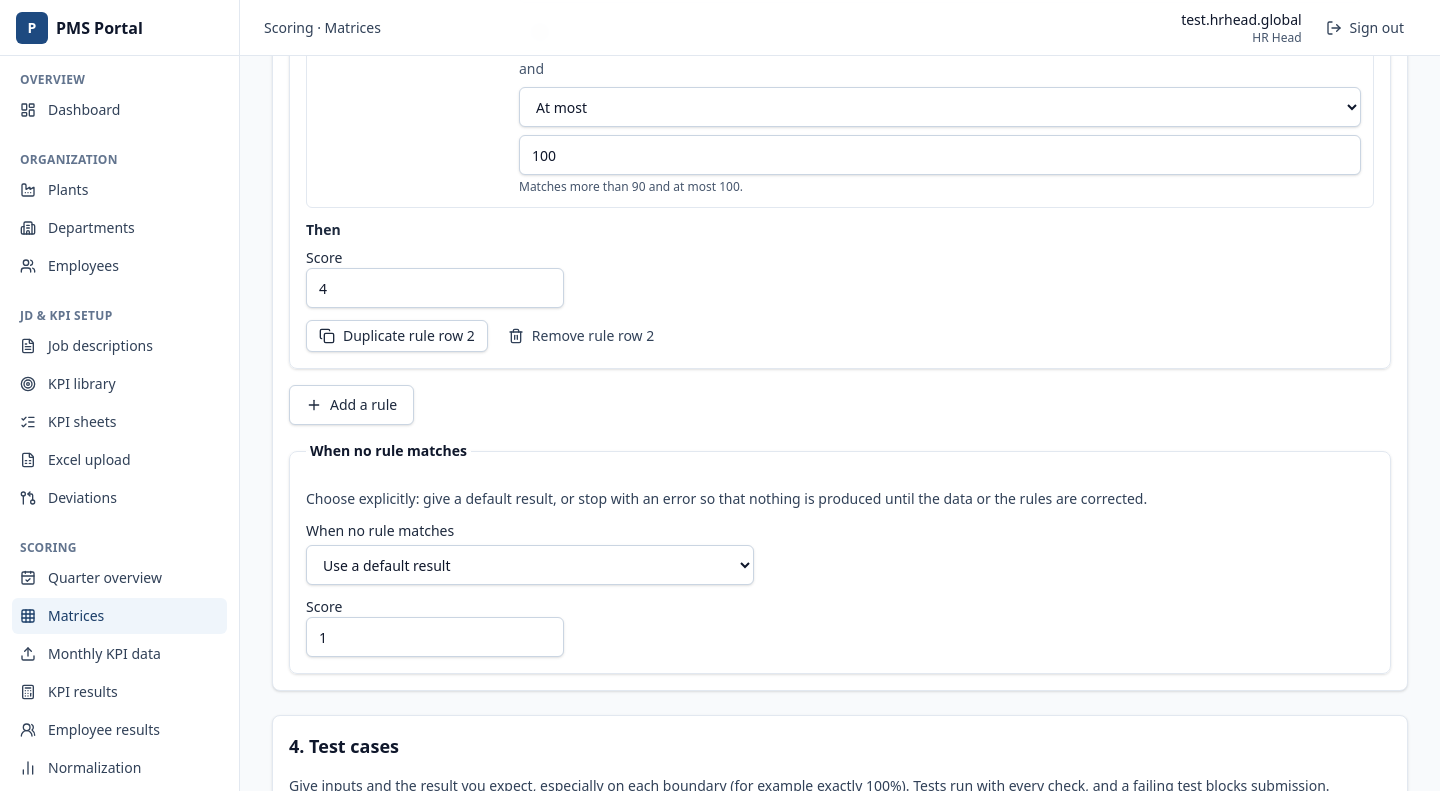
it: matrix editor › asks for each bound whether it is included, and checks without saving
(page scrolled)
Click the button "Add a rule" at [352, 405], box x1=289 y1=385 x2=414 y2=425
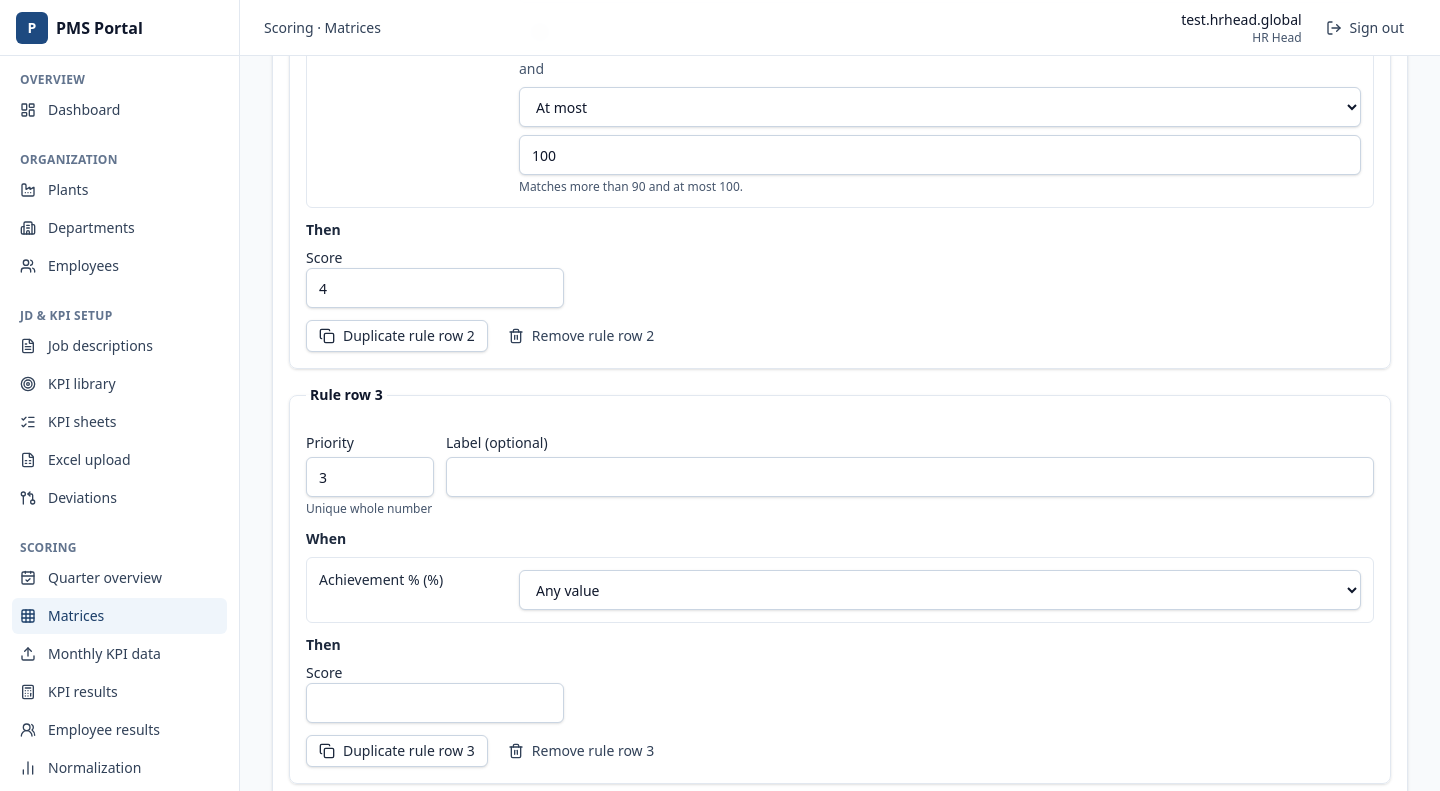
Select "Within bounds" in the dropdown named "Achievement %: condition, rule row 3" at [940, 590], box x1=519 y1=570 x2=1361 y2=610
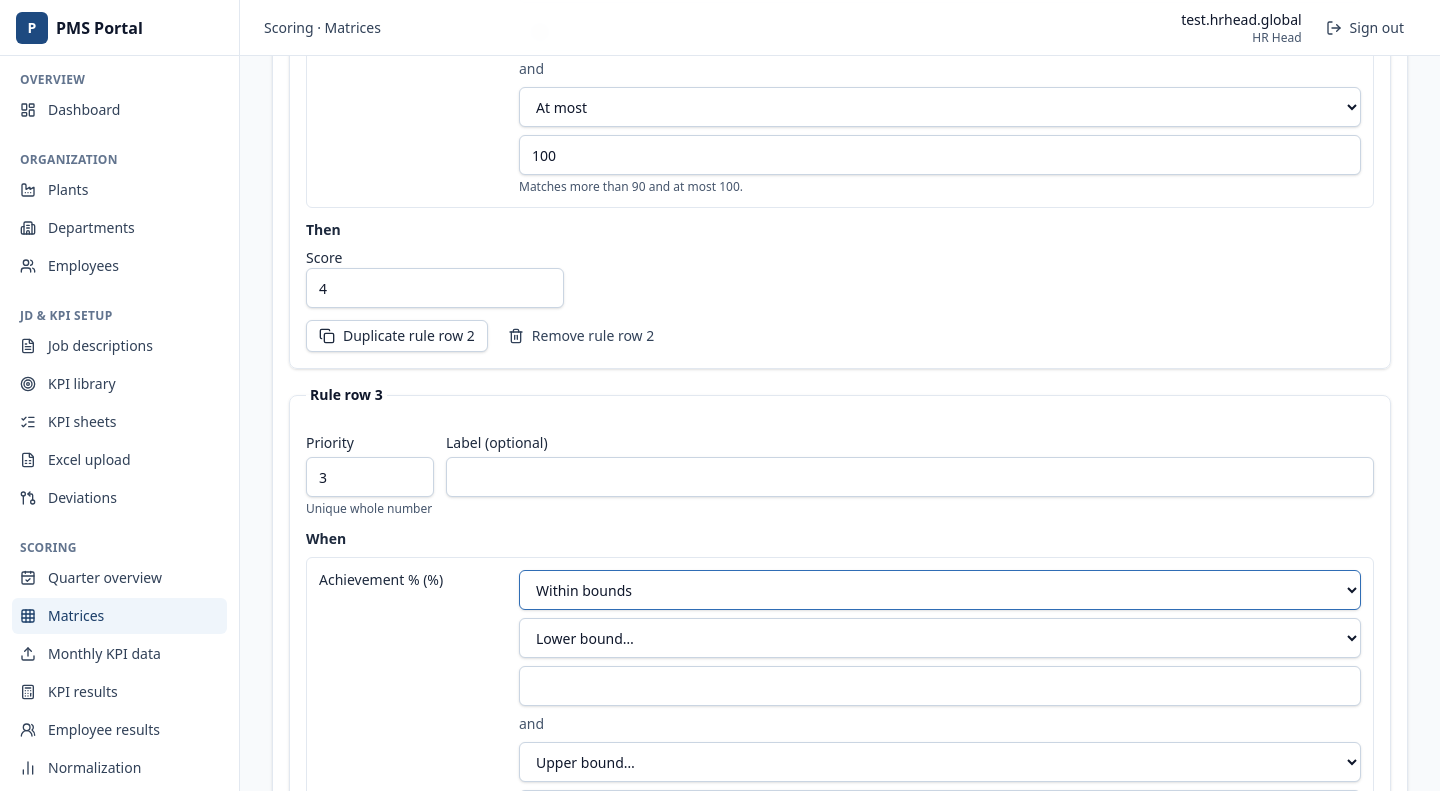
Result: the dropdown named "Achievement %: lower bound, rule row 3" shows "Lower bound…" at x1=519 y1=618 x2=1361 y2=658
Type "95" into the field named "Achievement %: lower bound value, rule row 3" at [940, 686], box x1=519 y1=666 x2=1361 y2=706
(page scrolled)
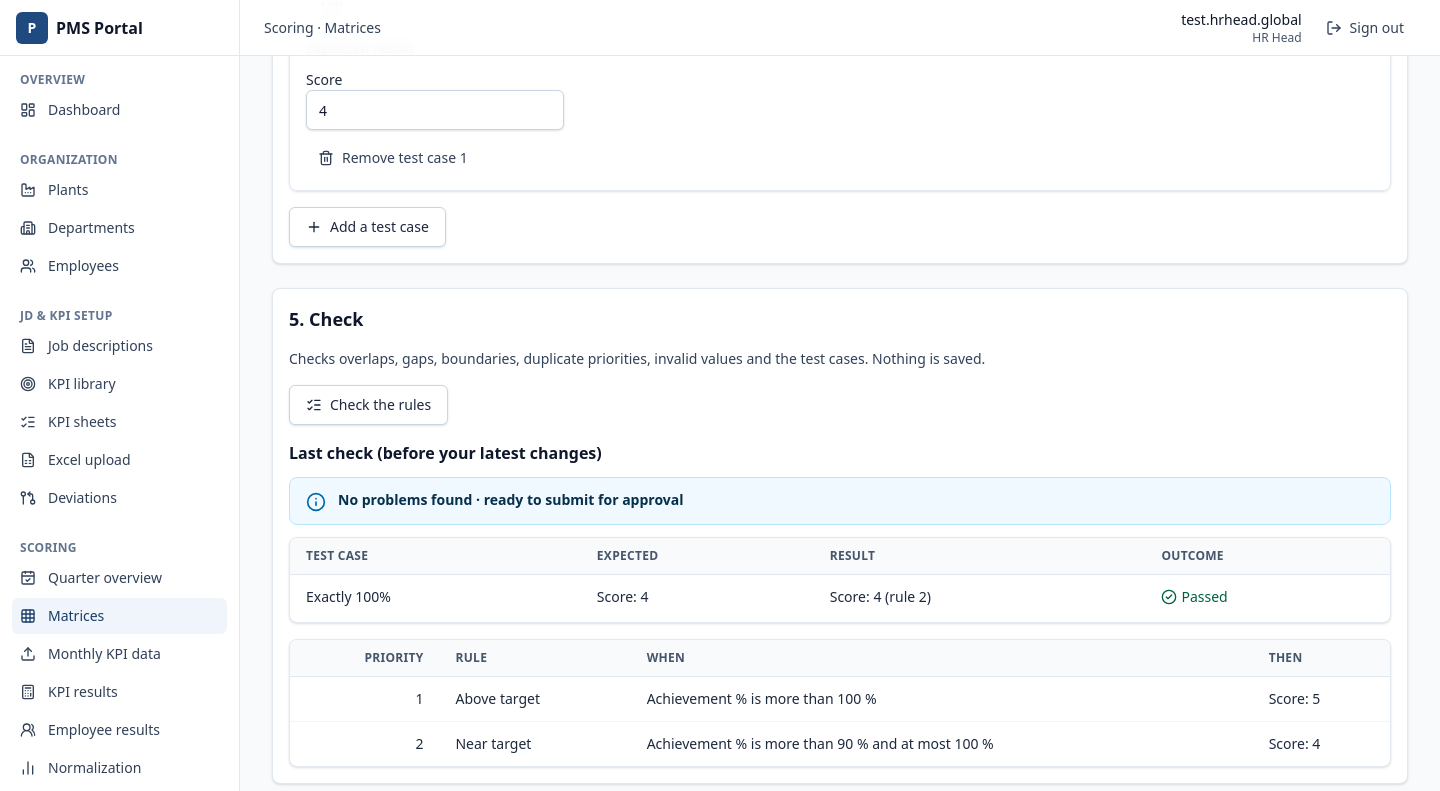
Click the button "Check the rules" at [369, 405], box x1=289 y1=385 x2=448 y2=425
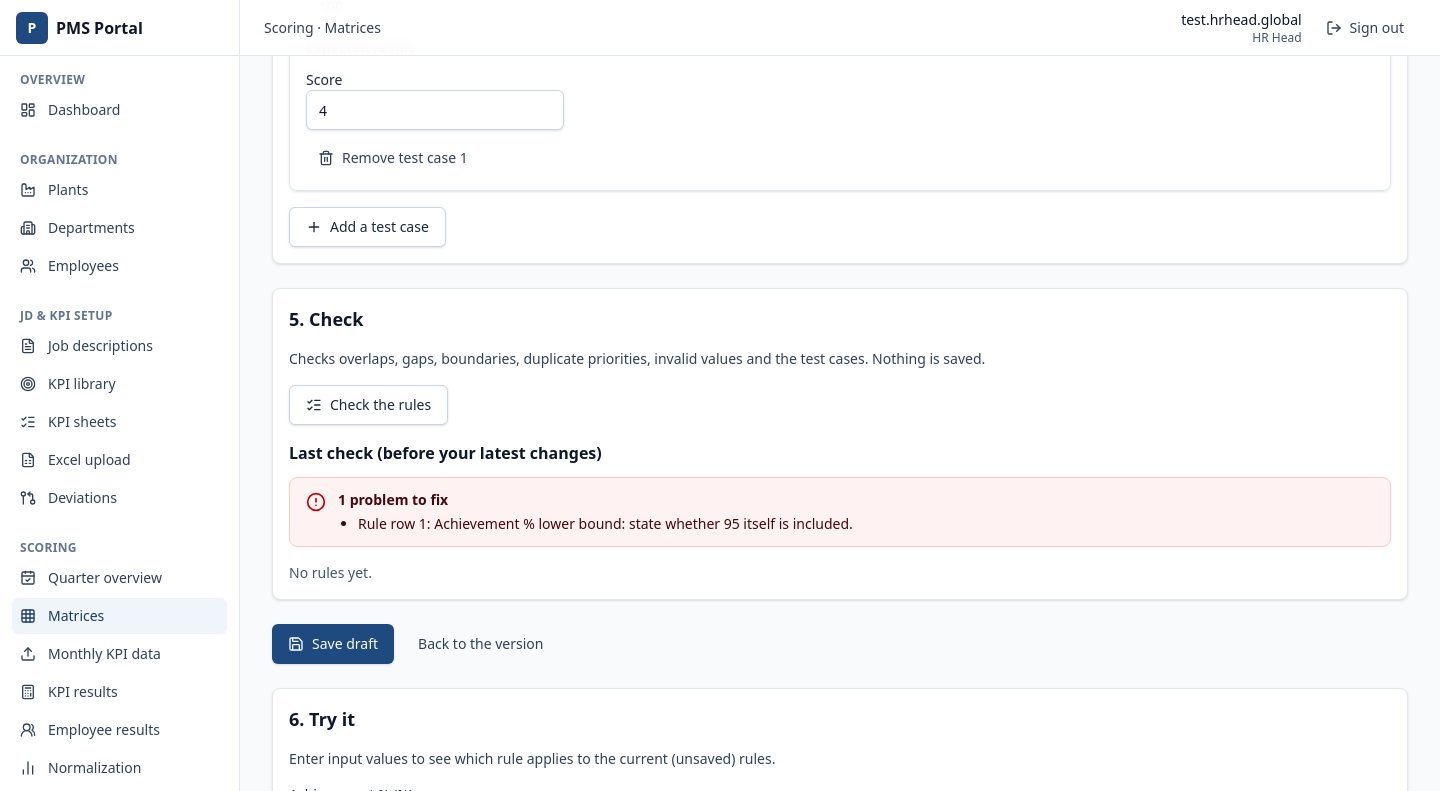
Result: the list item "Achievement % lower bound: state whether 95 itself is included." is shown at x1=434 y1=514 x2=853 y2=533
